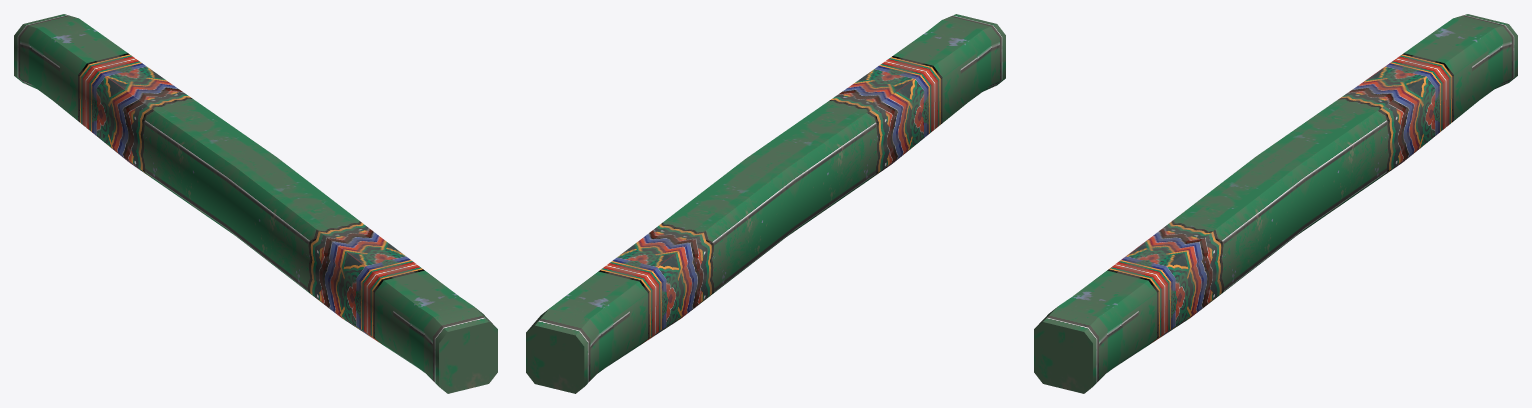
The model's file is SM_Jungbo01b.fbx.
3 views of the same model, side by side, from view 1: azimuth 30°, elevation 25°; view 2: azimuth 150°, elevation 25°; view 3: azimuth 330°, elevation 25° (orthographic).
Parts seen in each view (by area): view 1: SM_Jungbo01b; view 2: SM_Jungbo01b; view 3: SM_Jungbo01b.
Part boxes in pixels (bbox=[...]): SM_Jungbo01b: bbox=[14, 14, 497, 393]; SM_Jungbo01b: bbox=[526, 14, 1005, 393]; SM_Jungbo01b: bbox=[1034, 14, 1517, 393].
Size of the model in its own units: 28 by 350 by 33.34.
Materials: 1 (1 with a texture image).
